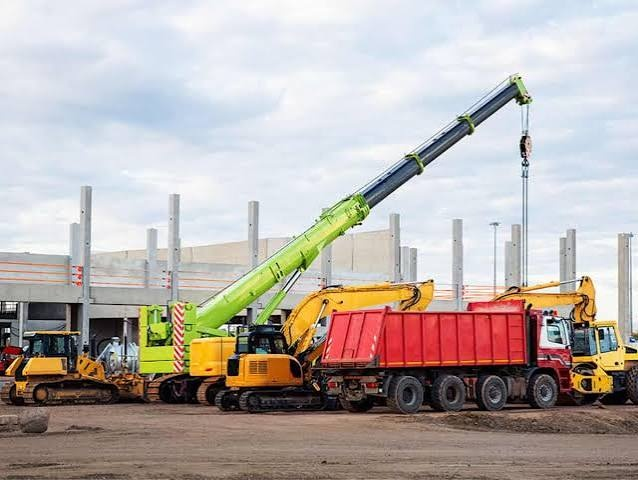crane: (121, 67, 554, 309)
excavator: (208, 276, 436, 427)
machinery: (7, 318, 136, 405)
truck: (321, 296, 581, 423)
